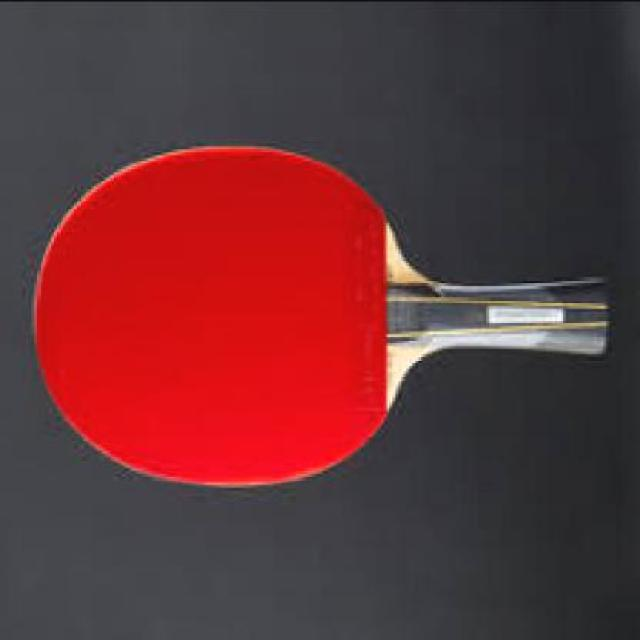table_tennis_racket: (30, 139, 427, 493)
